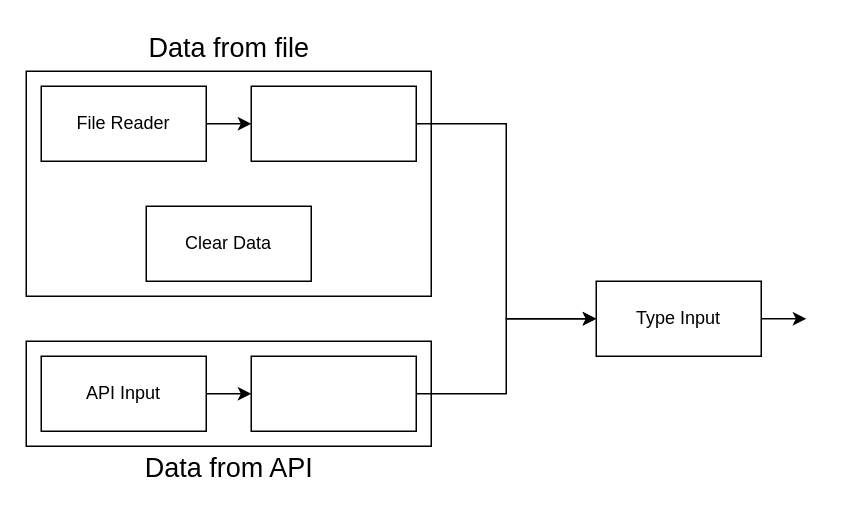
This 845x516 diagram has some shape labels left out. The centre of each missing label's shape, as x and y in pixels:
API Parser: [333,393]
File Input: [333,123]
